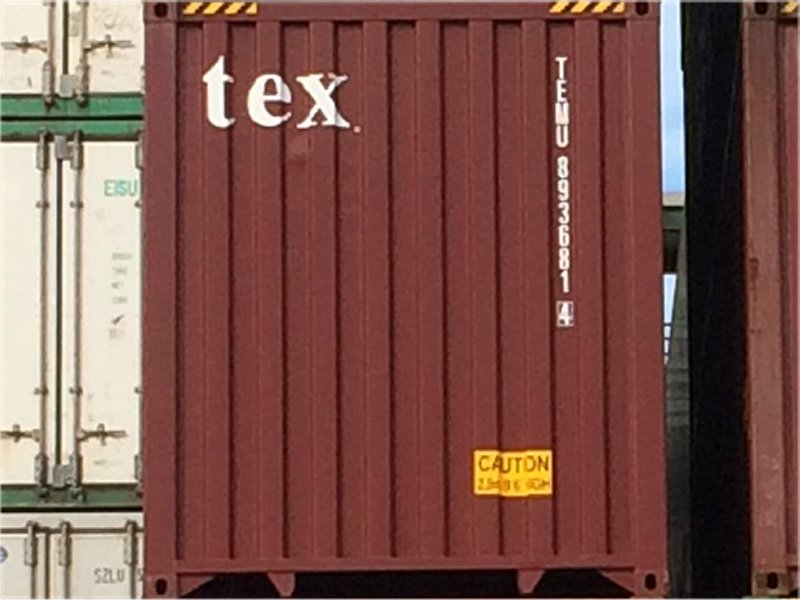container_no_door: (138, 1, 669, 600)
